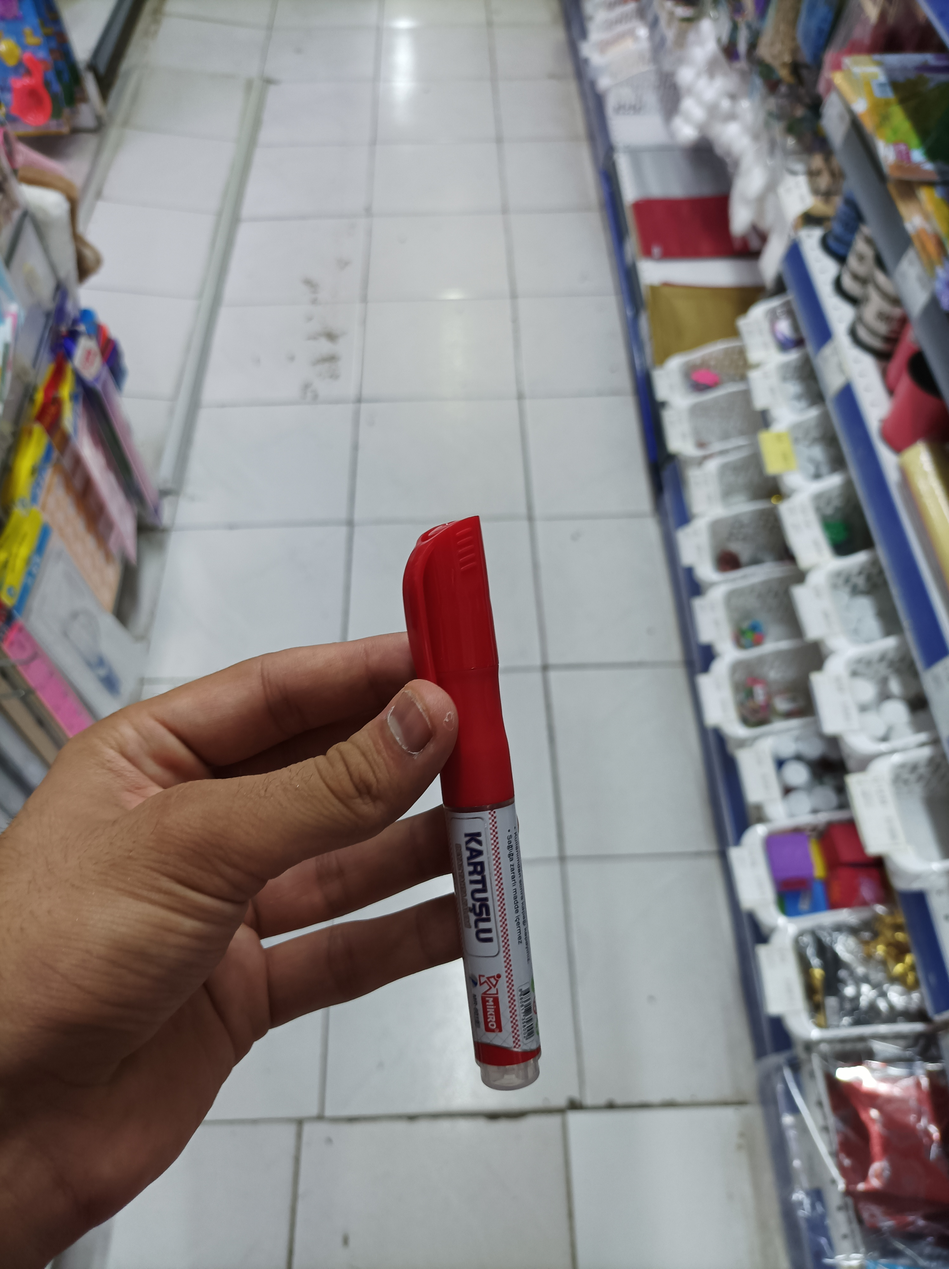plastic: (404, 527, 552, 1101)
